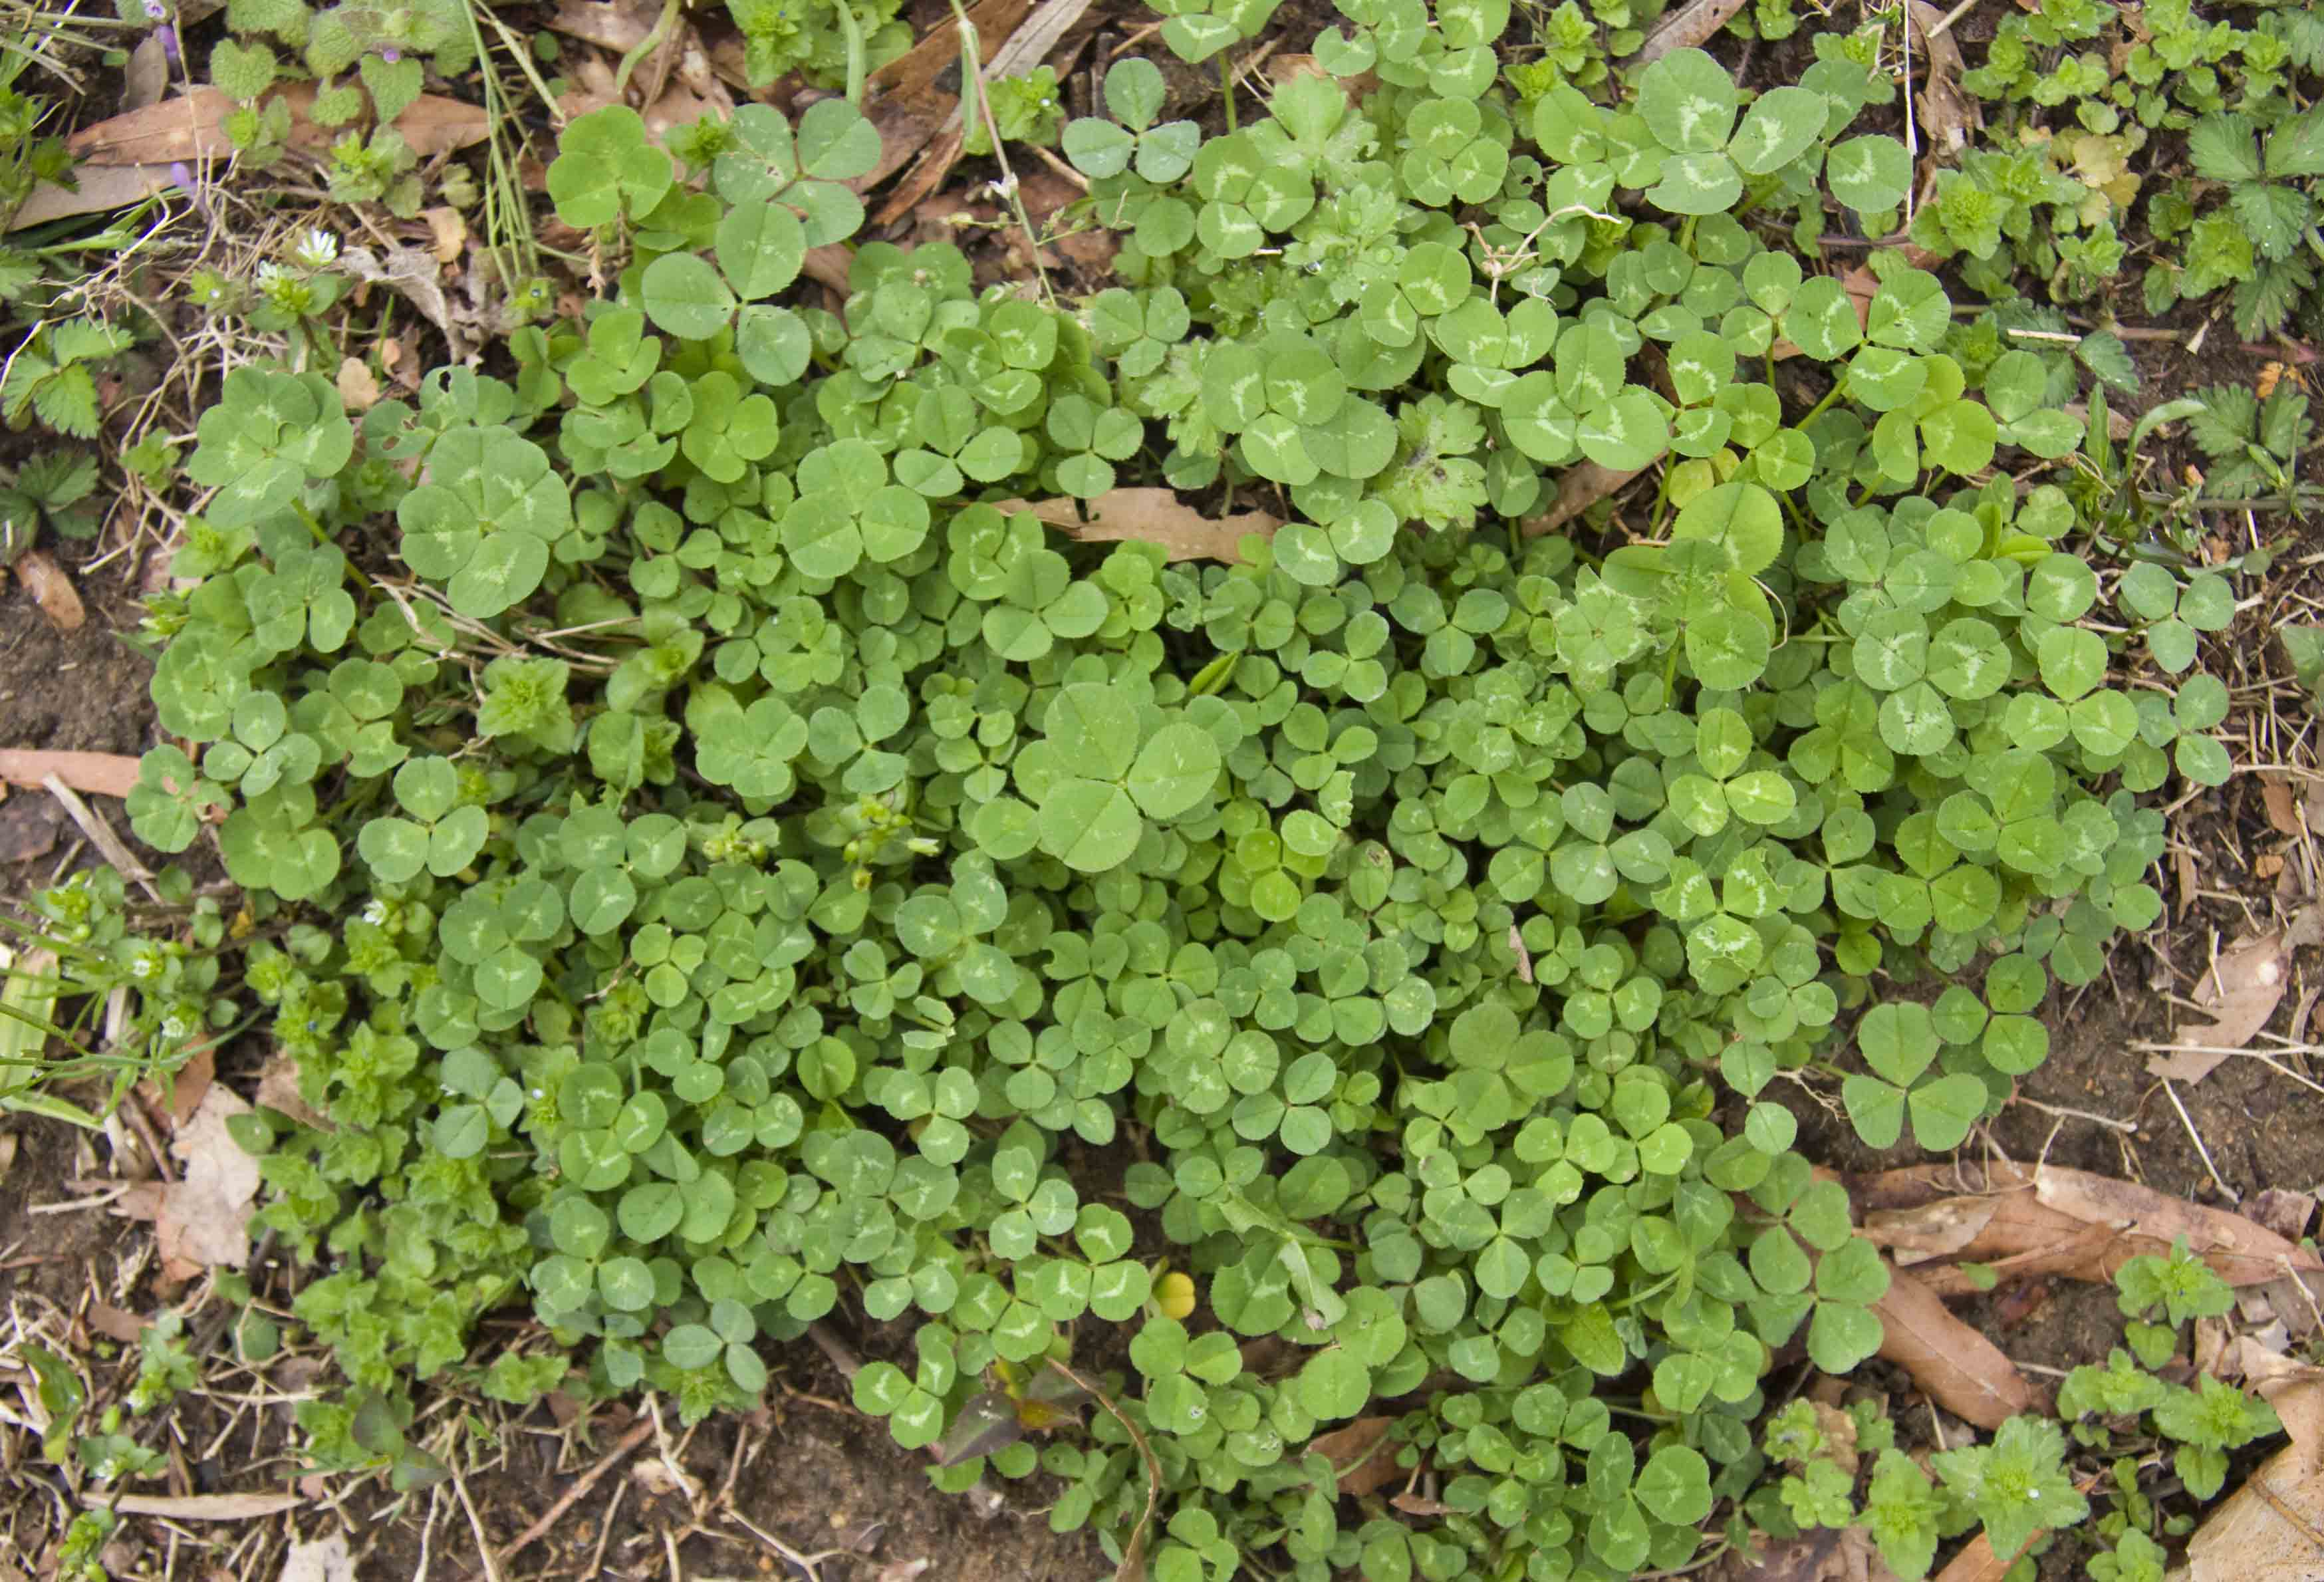4-clover: (392, 431, 575, 609)
